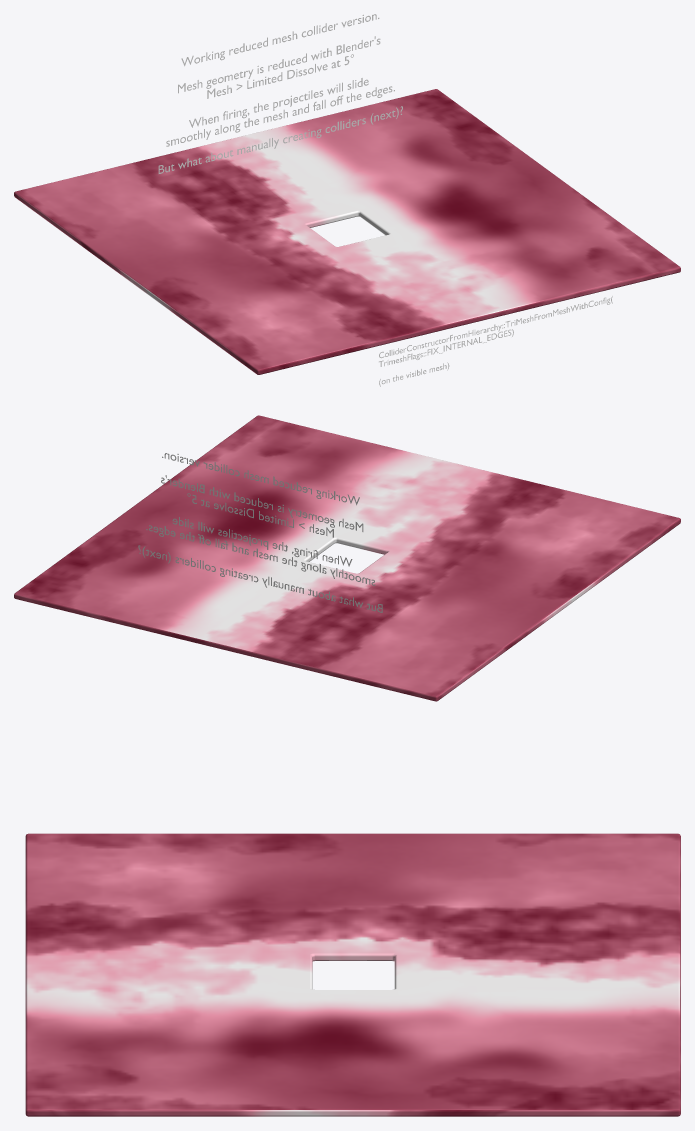
The model's file is level_0_reduced.glb.
3 views of the same model, one above another, from view 1: azimuth 30°, elevation 25°; view 2: azimuth 150°, elevation 25°; view 3: azimuth 270°, elevation 25° (orthographic). The views are drawn at different scales.
Visible parts, largest first — view 1: Floor.019, Text.019, Text.018; view 2: Floor.019, Text.019; view 3: Floor.019.
Boxes of the visible parts, x1,y1,x2,y2 form: Floor.019: (14, 89, 680, 374); Text.019: (158, 14, 402, 173); Text.018: (379, 296, 612, 386); Floor.019: (14, 415, 680, 701); Text.019: (138, 453, 382, 612); Floor.019: (25, 833, 680, 1116).
Size of the model in its own units: 29.71 by 11.95 by 30.24.
2 materials, 1 textured.
